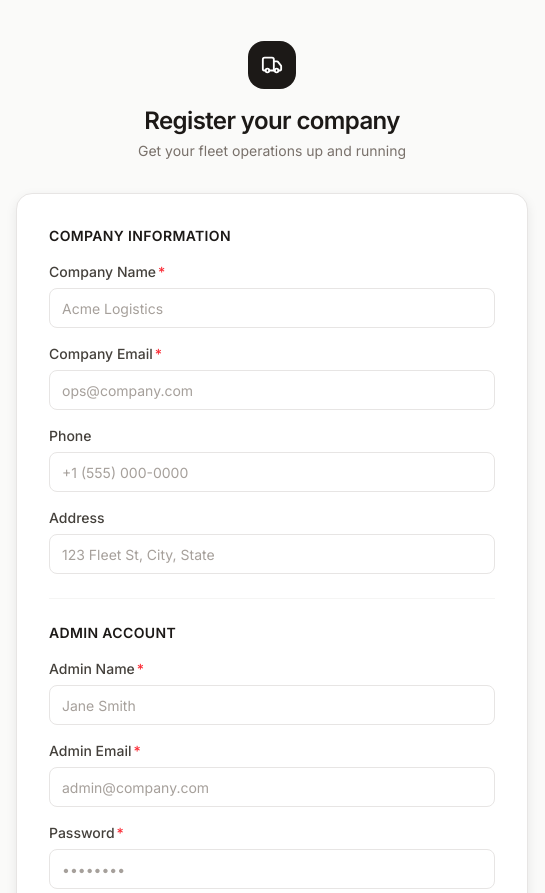
it: RegisterPage › shows server error message on API failure
In the field with placeholder "Acme Logistics": (272, 308) 49,288 -> 495,328, type "Test Corp"
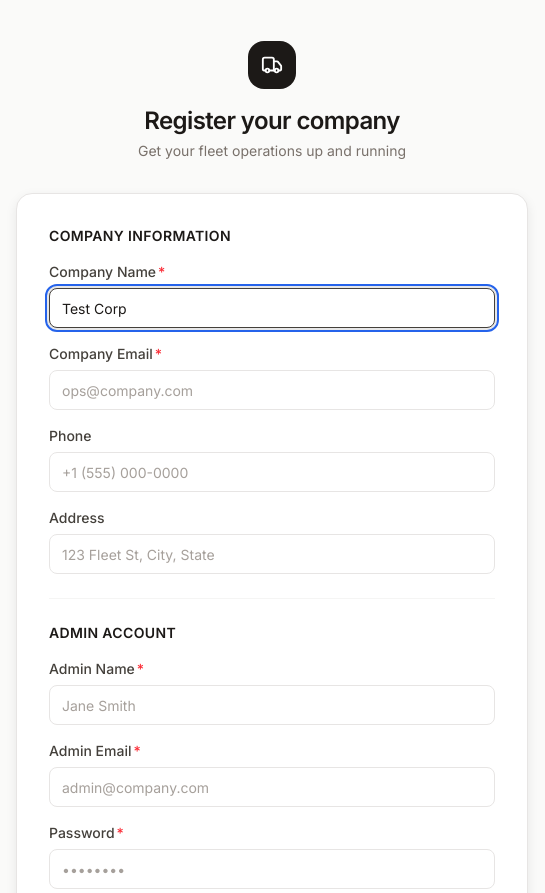
In the field with placeholder "ops@company.com": (272, 390) 49,370 -> 495,410, type "ops@test.com"
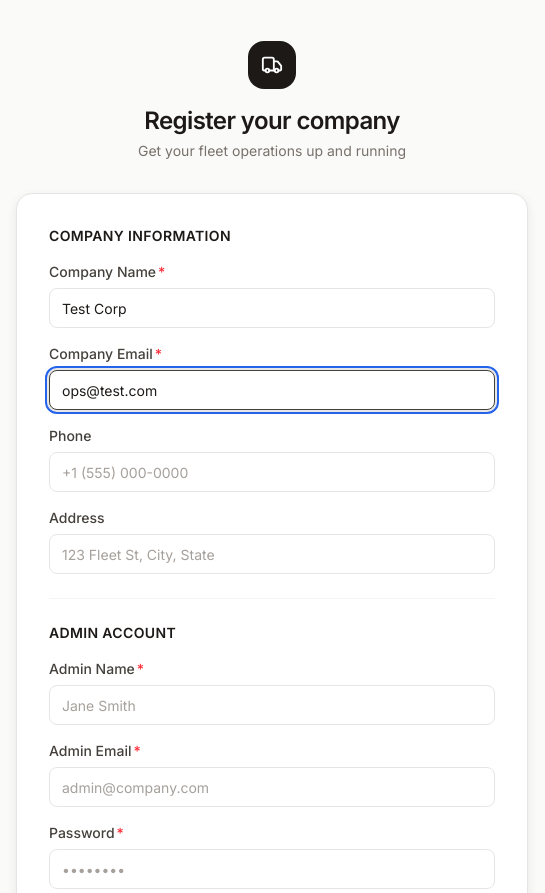
In the field with placeholder "Jane Smith": (272, 705) 49,685 -> 495,725, type "Jane Doe"
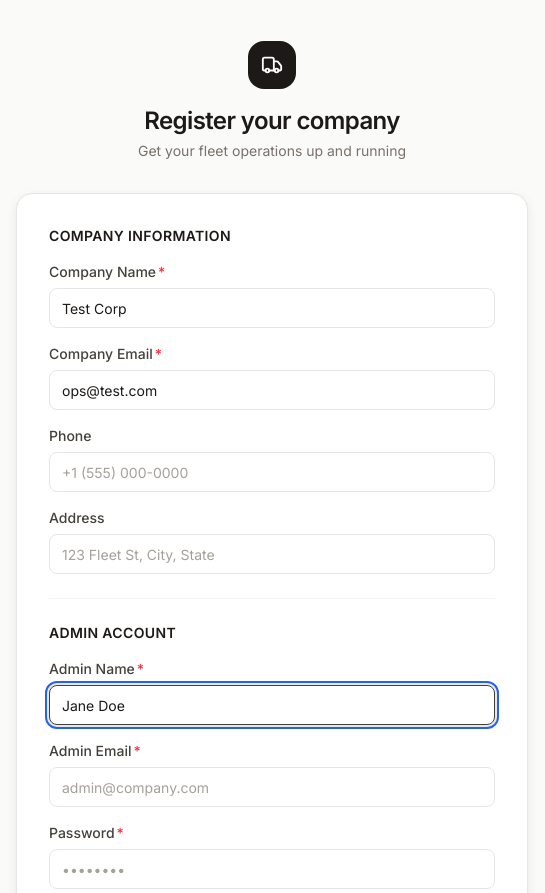
In the field with placeholder "admin@company.com": (272, 787) 49,767 -> 495,807, type "admin@test.com"
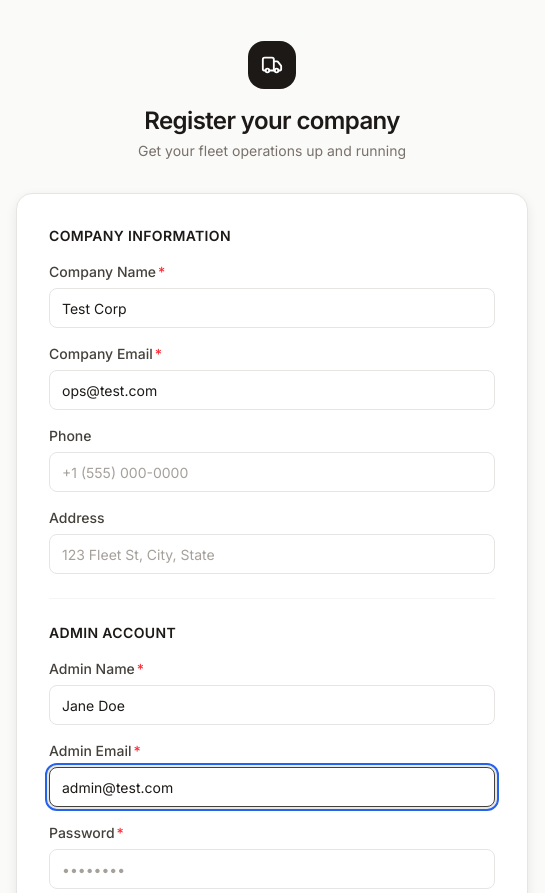
In the password field with placeholder "••••••••": (272, 869) 49,849 -> 495,889, type "password123"
(page scrolled)
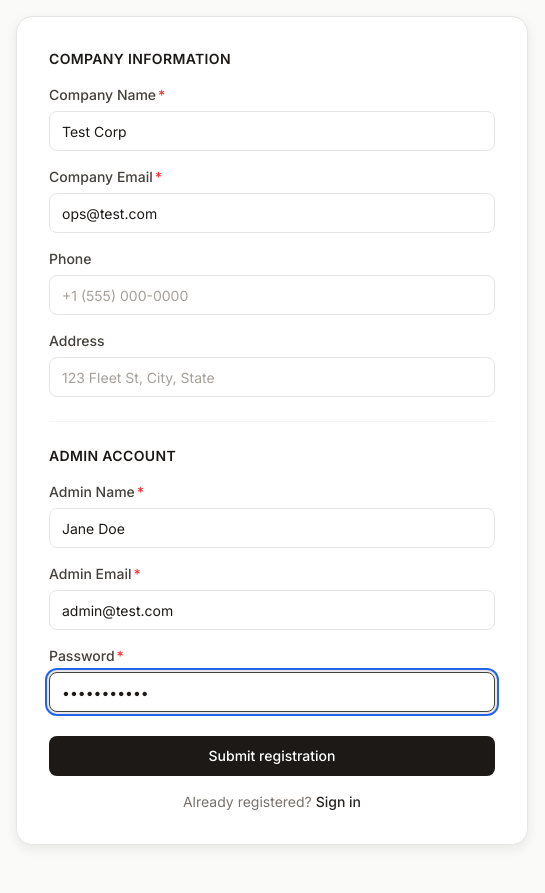
Click the button "Submit registration": (272, 756) 49,736 -> 495,776
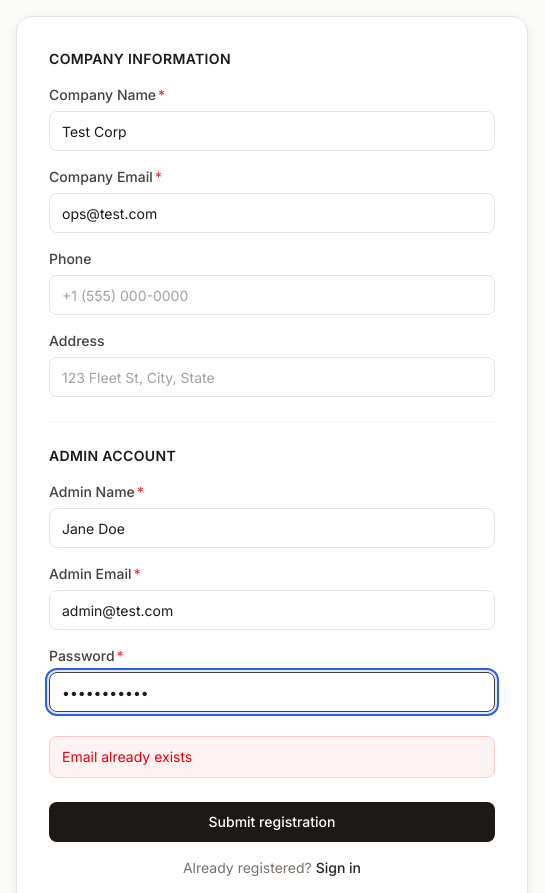
Expected: the text "Email already exists" is shown, 62,748 -> 192,765
